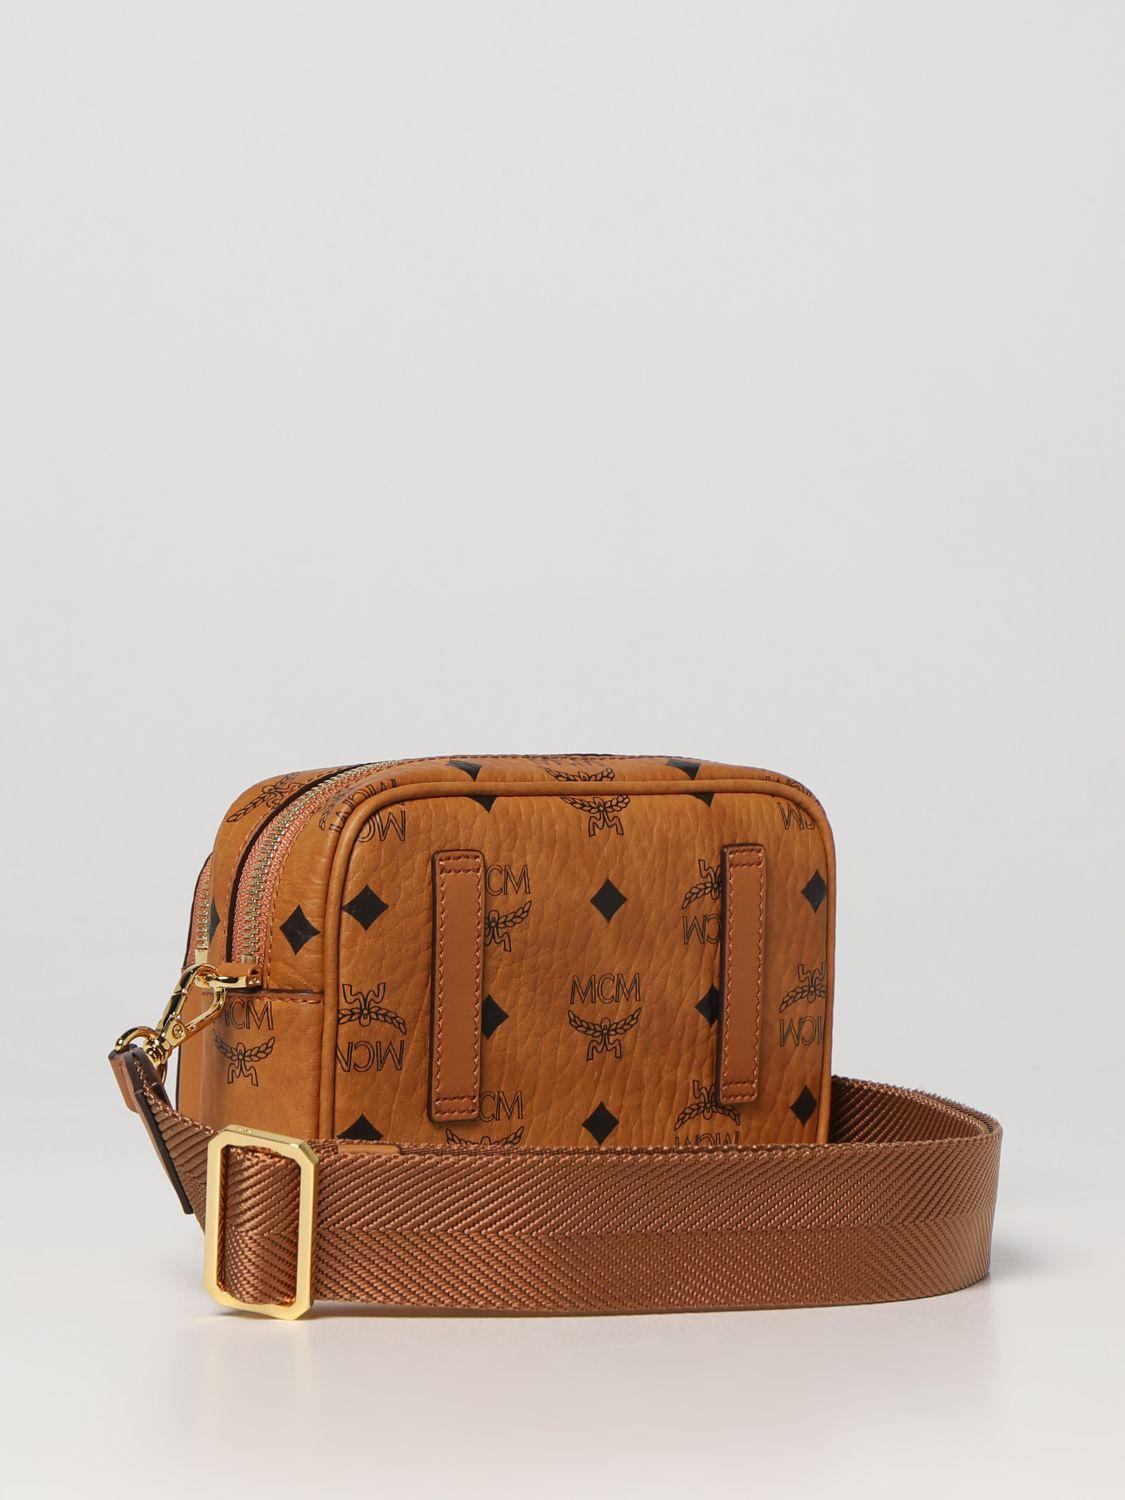MCM: (191, 742, 860, 1258)
